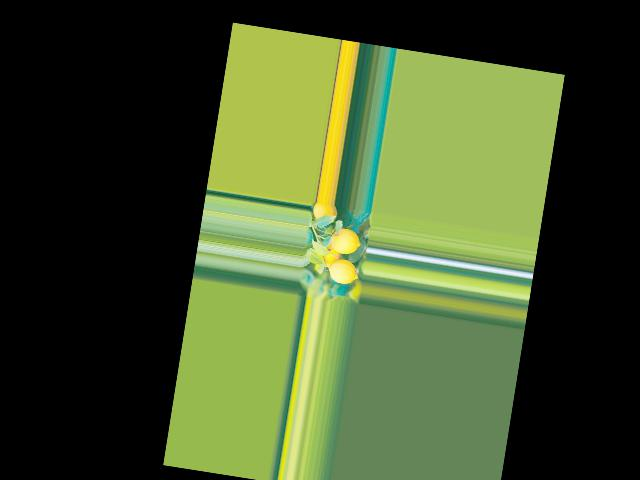lemon: (325, 258, 359, 285)
